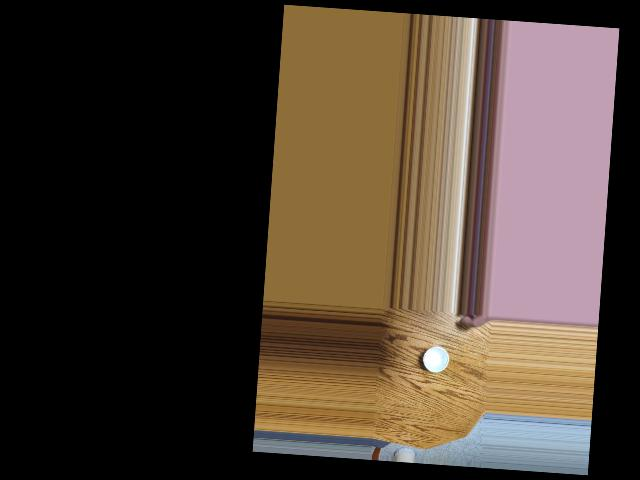cotage: (423, 343, 452, 374)
